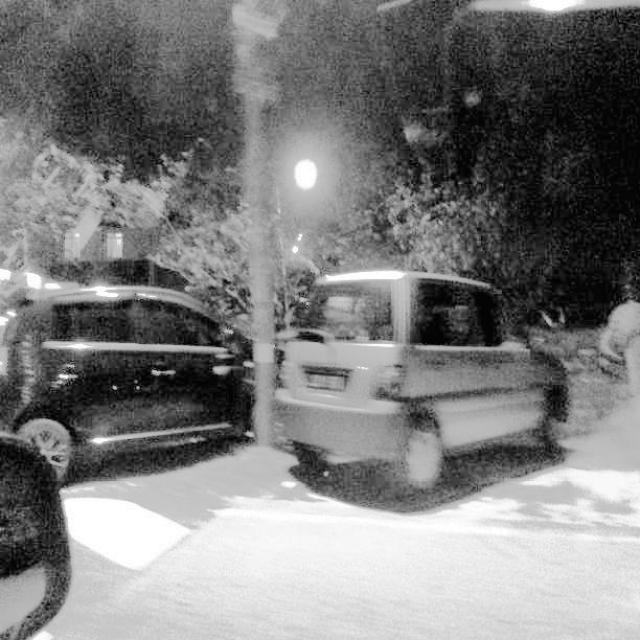Car: (272, 252, 580, 518), (0, 274, 273, 461)
